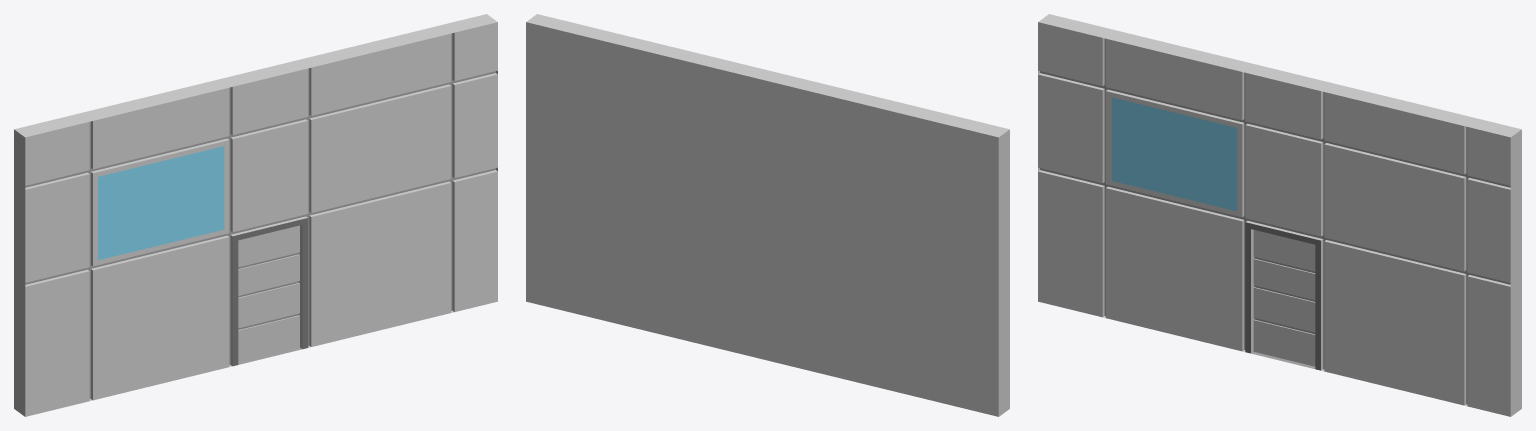
Rendered from factory wall w door n window.fbx.
3 views of the same model, side by side, from view 1: azimuth 30°, elevation 25°; view 2: azimuth 150°, elevation 25°; view 3: azimuth 330°, elevation 25° (orthographic).
Visible parts, largest first — view 1: wall w double window; view 2: wall w double window; view 3: wall w double window.
Part boxes in pixels (left/top/right/bottom): wall w double window: left=14, top=14, right=497, bottom=416; wall w double window: left=526, top=14, right=1009, bottom=416; wall w double window: left=1038, top=14, right=1521, bottom=416.
Bounding box in the file's own units: 111 × 62.57 × 4.51.
